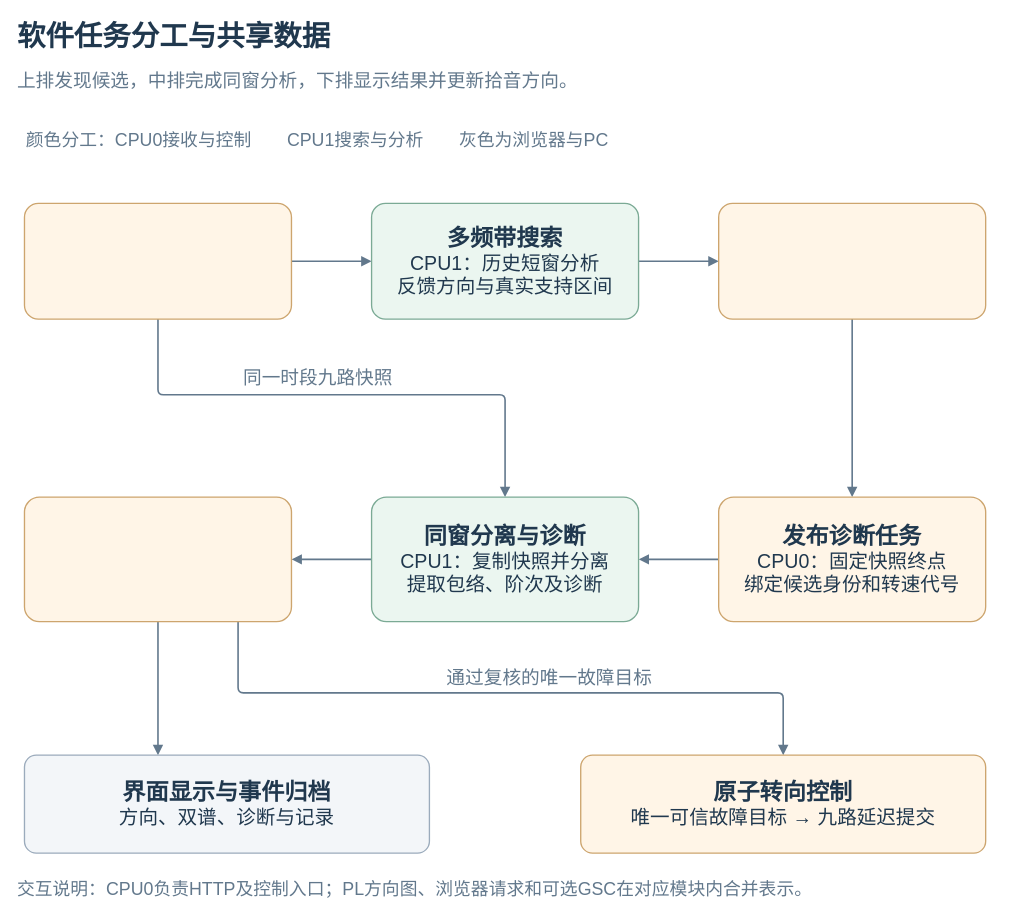
Image size: 1009x921. Some labels were removed from this diagram. Here are the shapes that lost their labels. From the top down, the centre of each, then its label:
[157,260]: 接收与历史缓存 CPU0：校验DMA 保存九路同序号PCM
[852,260]: 管理候选与轨迹 CPU0：融合PL方向图 及多频带搜索反馈
[157,559]: 接收与复核结果 CPU0：固定持有结果槽 时效、轨迹、工况与模型
